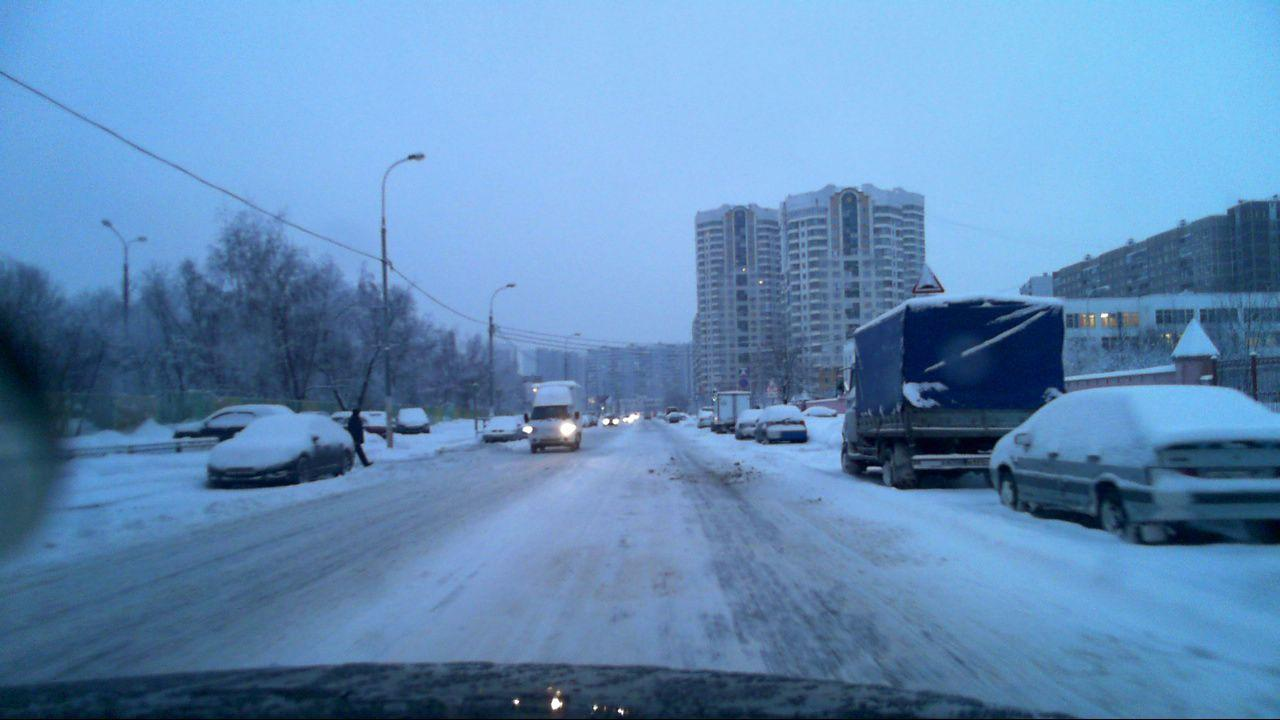1_17: (907, 259, 949, 294)
